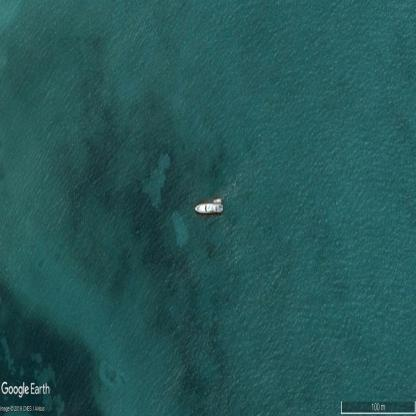ship: (195, 204, 223, 212), (213, 198, 221, 204)
